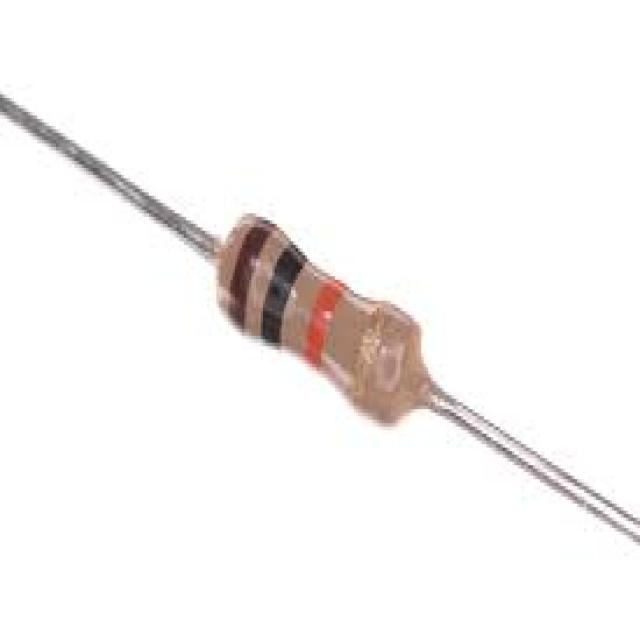Resistor: (218, 217, 426, 423)
